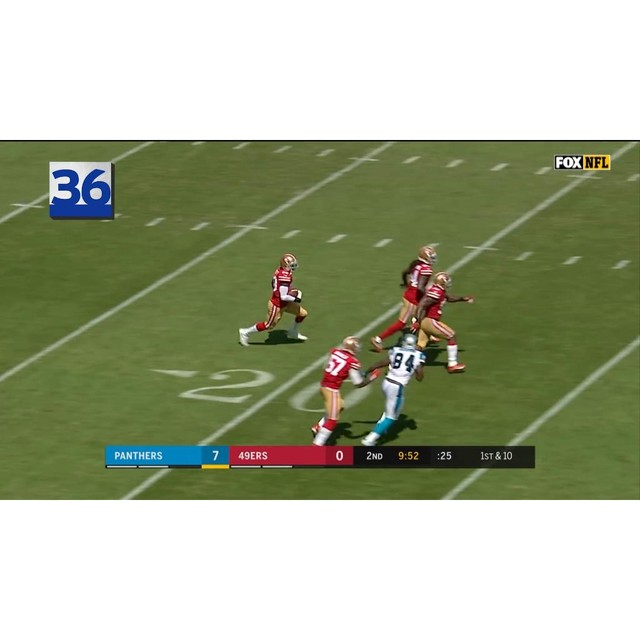american-football-player: (361, 333, 427, 443), (237, 254, 308, 348), (310, 336, 371, 442), (372, 248, 437, 347), (414, 271, 474, 372)
